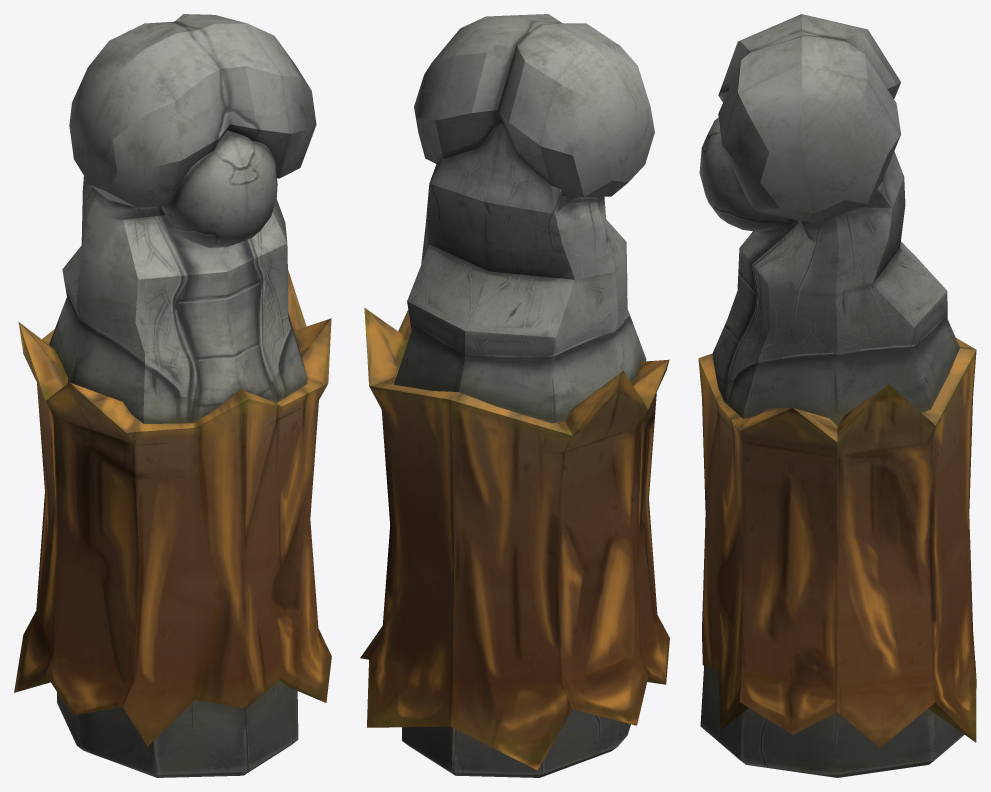
File: 1_Estatua.fbx
3 renders of one model, left to right at view 1: azimuth 30°, elevation 25°; view 2: azimuth 150°, elevation 25°; view 3: azimuth 270°, elevation 25°, orthographic. The views are drawn at different scales.
Visible parts, largest first — view 1: Cuerpo_low; view 2: Cuerpo_low; view 3: Cuerpo_low.
Part boxes in pixels (left/top/right/bottom): Cuerpo_low: left=14, top=14, right=331, bottom=777; Cuerpo_low: left=360, top=14, right=669, bottom=777; Cuerpo_low: left=698, top=14, right=976, bottom=777.
Bounding box in the file's own units: 70.47 × 169 × 60.69.
